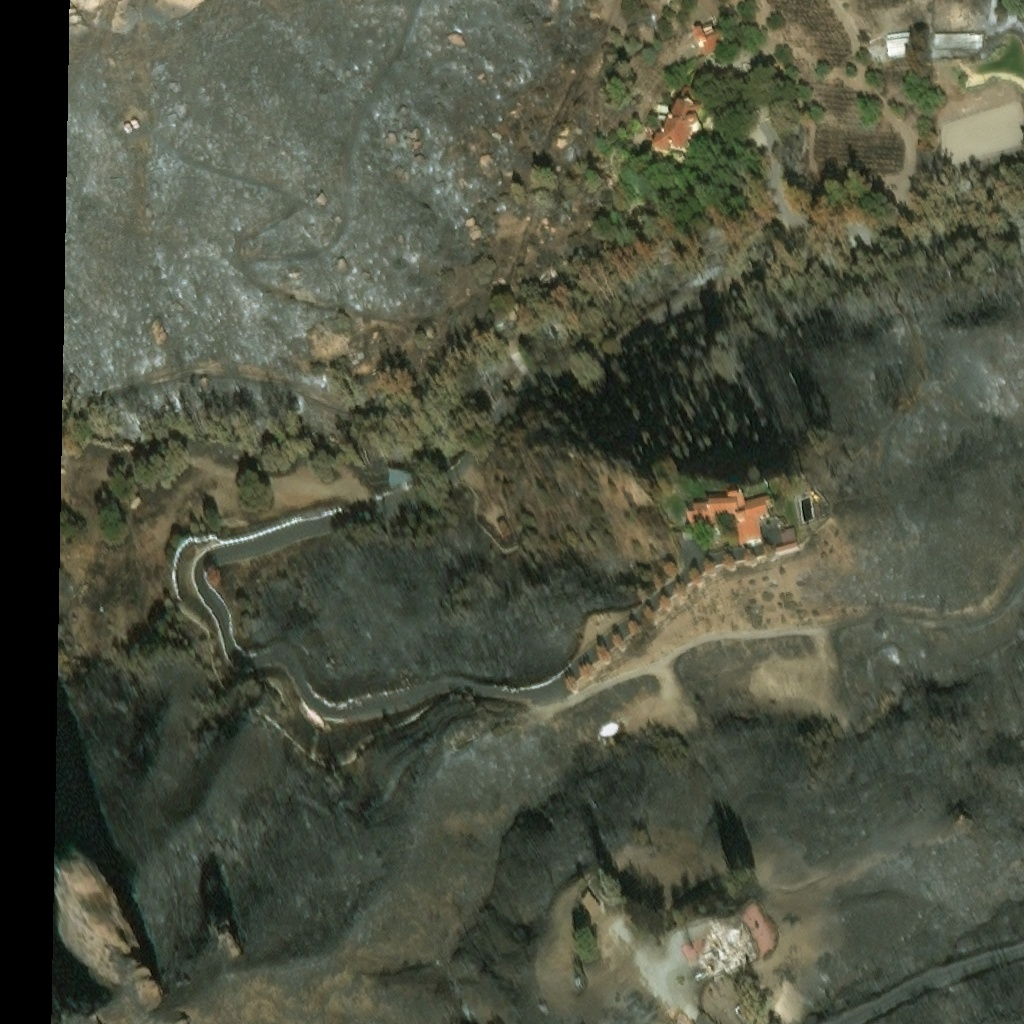0 no-damage: (688, 484, 772, 547), (654, 85, 704, 161), (759, 513, 799, 552), (690, 23, 730, 55), (368, 467, 416, 492), (885, 29, 910, 58), (665, 1001, 696, 1023), (582, 892, 602, 918)
3 destroyed: (699, 922, 757, 973), (930, 31, 984, 49)
4 un-classified: (493, 311, 525, 364), (537, 266, 560, 285), (554, 257, 571, 275)
